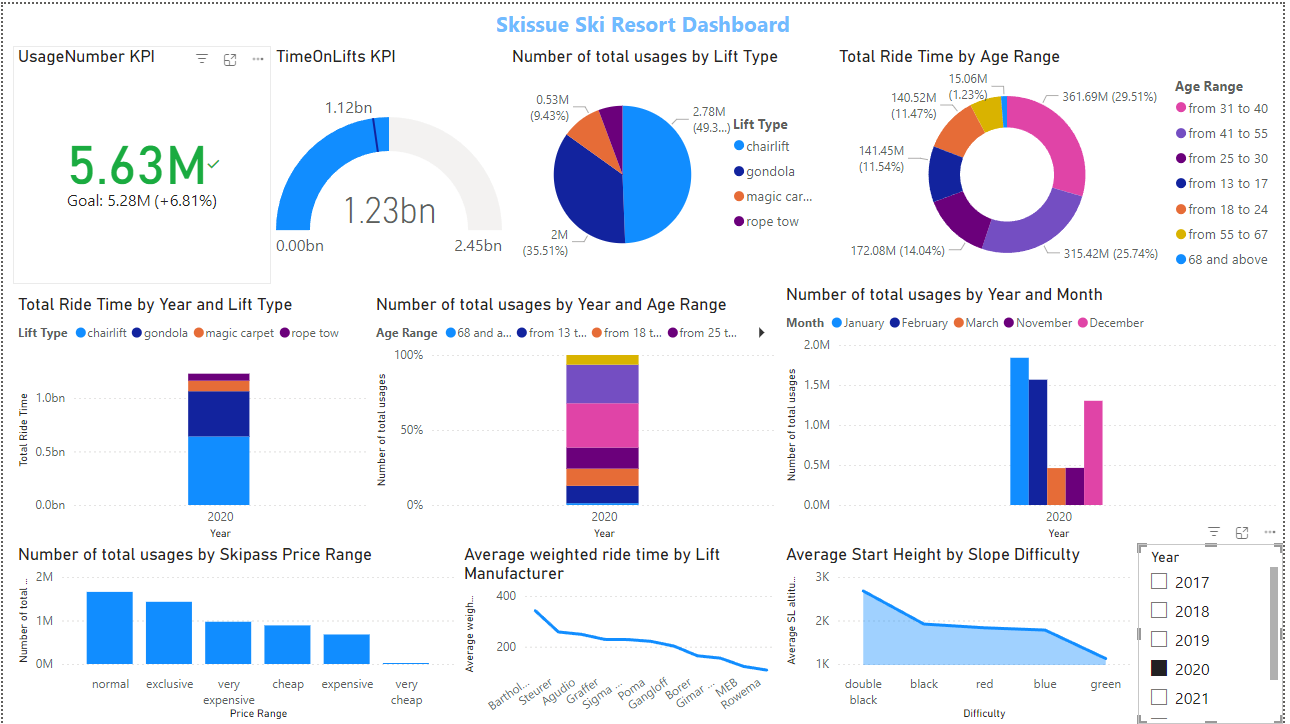

The dashboard page shown, as its layout file describes it:
{"tool":"powerbi","page":{"name":"Page 1","canvas":[1280,720],"ordinal":0},"visuals":[{"type":"kpi","title":"UsageNumber KPI","fields":{"TrendLine":["Date.Year"],"Indicator":["Ski Lift Usage.___UsageNumber Value"],"Goal":["Ski Lift Usage.UsageNumber Goal"]},"box":[9.7,41.8,258.7,238.3],"z":0},{"type":"gauge","title":"TimeOnLifts KPI","fields":{"TargetValue":["Ski Lift Usage.TimeOnLifts Goal"],"Y":["Ski Lift Usage.___TimeOnLifts Value"]},"box":[268.4,41.8,235.4,238.3],"z":1000},{"type":"columnChart","fields":{"Y":["Ski Lift Usage.Total Ride Time"],"Category":["Date.Year"],"Series":["Ski Lift.Lift Type"]},"box":[9.7,289.8,357.9,250],"z":2000},{"type":"hundredPercentStackedColumnChart","fields":{"Category":["Date.Year"],"Series":["Customers.Age Range"],"Y":["Ski Lift Usage.Number of total usages"]},"box":[367.7,289.8,410.5,250],"z":3000},{"type":"pieChart","fields":{"Y":["Ski Lift Usage.Number of total usages"],"Category":["Ski Lift.Lift Type"]},"box":[503.8,41.8,326.8,238.3],"z":4000},{"type":"donutChart","fields":{"Y":["Ski Lift Usage.Total Ride Time"],"Category":["Customers.Age Range"]},"box":[830.6,41.8,449.4,238.3],"z":5000},{"type":"clusteredColumnChart","fields":{"Y":["Ski Lift Usage.Number of total usages"],"Category":["Date.Year"],"Series":["Date.Month"]},"box":[778.1,280.1,501.9,259.7],"z":6000},{"type":"columnChart","title":"Number of total usages by Skipass Price Range","fields":{"Category":["Ski Pass.Price Range"],"Y":["Ski Lift Usage.Number of total usages"]},"box":[9.7,539.8,446.4,179.9],"z":7000},{"type":"textbox","box":[434.8,0,410.5,41.8],"z":8000},{"type":"lineChart","fields":{"Y":["Measures.Average weighted ride time"],"Category":["Ski Lift.Lift Manufacturer"]},"box":[456,540,322,180],"z":9000},{"type":"areaChart","title":"Average Start Height by Slope Difficulty","fields":{"Y":["Measures.Average SL altitude"],"Category":["Ski Slope.Difficulty"]},"box":[778.1,539.8,357,179.9],"z":10000},{"type":"slicer","fields":{"Values":["Date.Year"]},"box":[1135.1,539.8,144.9,179.9],"z":10001}]}

Visuals, with their boxes in screenshot pixels (x1, y1, x2, y2), scaled from the page's 1280x720 canvas onto the 1290x724 screenshot:
"UsageNumber KPI" kpi: BBox(10, 42, 270, 282)
"TimeOnLifts KPI" gauge: BBox(270, 42, 508, 282)
columnChart - Ski Lift Usage.Total Ride Time x Date.Year: BBox(10, 291, 370, 543)
hundredPercentStackedColumnChart - Date.Year x Customers.Age Range: BBox(371, 291, 784, 543)
pieChart - Ski Lift Usage.Number of total usages x Ski Lift.Lift Type: BBox(508, 42, 837, 282)
donutChart - Ski Lift Usage.Total Ride Time x Customers.Age Range: BBox(837, 42, 1289, 282)
clusteredColumnChart - Ski Lift Usage.Number of total usages x Date.Year: BBox(784, 282, 1289, 543)
"Number of total usages by Skipass Price Range" columnChart: BBox(10, 543, 460, 723)
textbox: BBox(438, 0, 852, 42)
lineChart - Measures.Average weighted ride time x Ski Lift.Lift Manufacturer: BBox(460, 543, 784, 723)
"Average Start Height by Slope Difficulty" areaChart: BBox(784, 543, 1144, 723)
slicer - Date.Year: BBox(1144, 543, 1289, 723)
